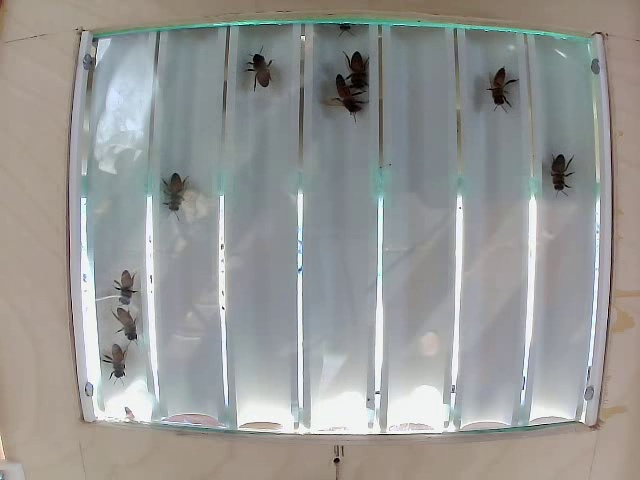bee: (544, 142, 576, 196), (329, 71, 363, 121), (97, 337, 131, 378), (167, 171, 196, 217), (489, 65, 513, 115), (110, 258, 139, 299), (244, 48, 268, 90), (110, 305, 143, 334), (355, 51, 379, 84)
